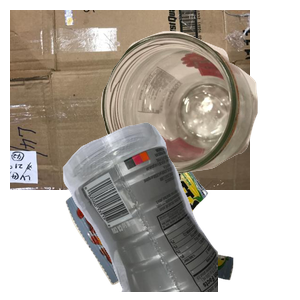cardboard: (10, 10, 250, 190)
glass: (98, 29, 300, 198)
plastic: (60, 120, 300, 300)
trash: (63, 137, 289, 300)
